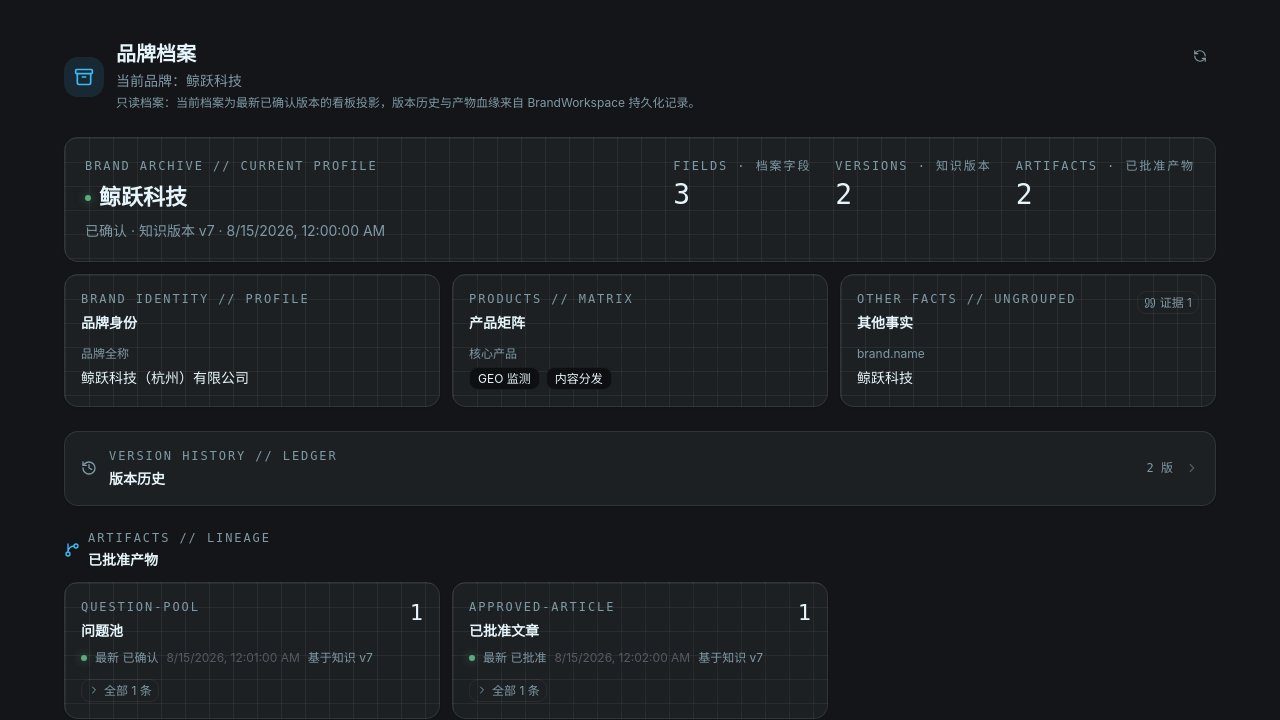
XiaojingBrandArchivePage › 版本历史默认收起，每行给 diff 摘要，展开只看 diff 详情
Check: the element named "当前档案" is shown, box 64,137 -> 1216,407
Check: the text "新增 2 · 移除 1" is not shown
Click the button "VERSION HISTORY // LEDGER 版本历史 2 版" at {"x": 223, "y": 456}, box 65,432 -> 1215,505
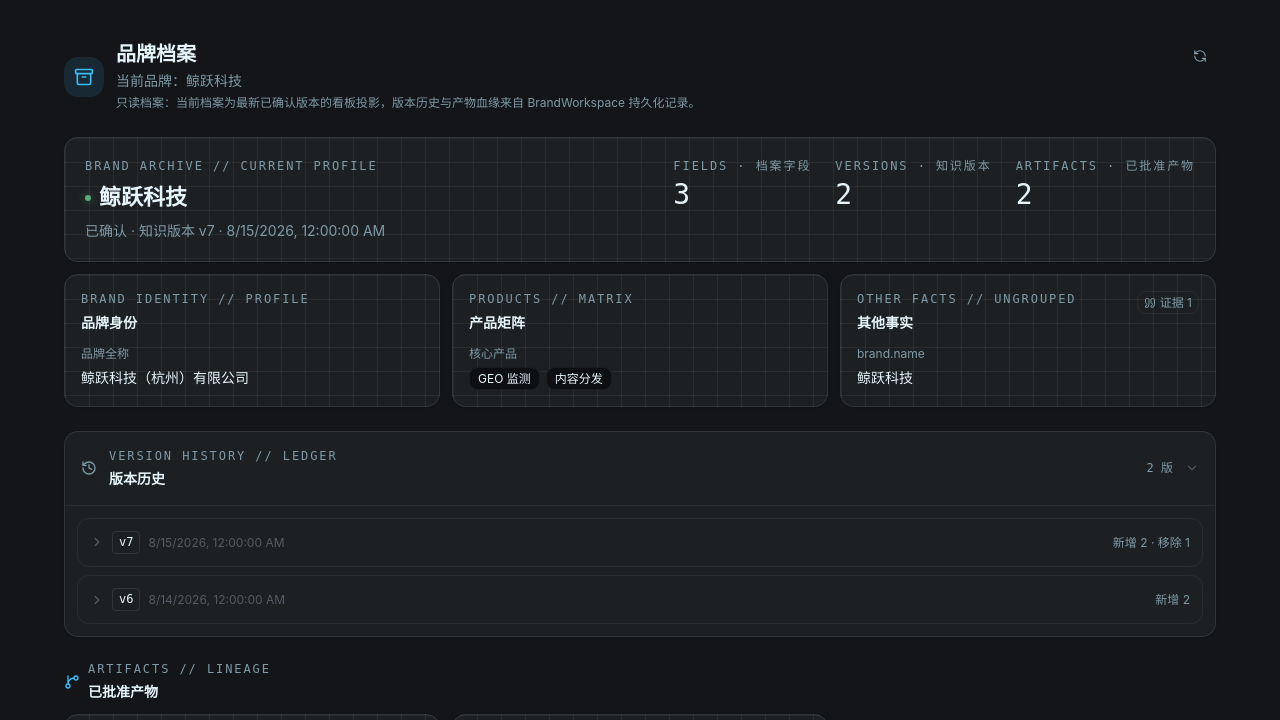
Check: the text "GEO 营销工具" is not shown
Check: the text "新增 2 · 移除 1" is shown, box 1113,534 -> 1190,551
Check: the text "新增 2" is shown, box 1155,591 -> 1190,608
Click the button "v7 8/15/2026, 12:00:00 AM 新增 2 · 移除 1" at {"x": 216, "y": 542}, box 78,518 -> 1202,566
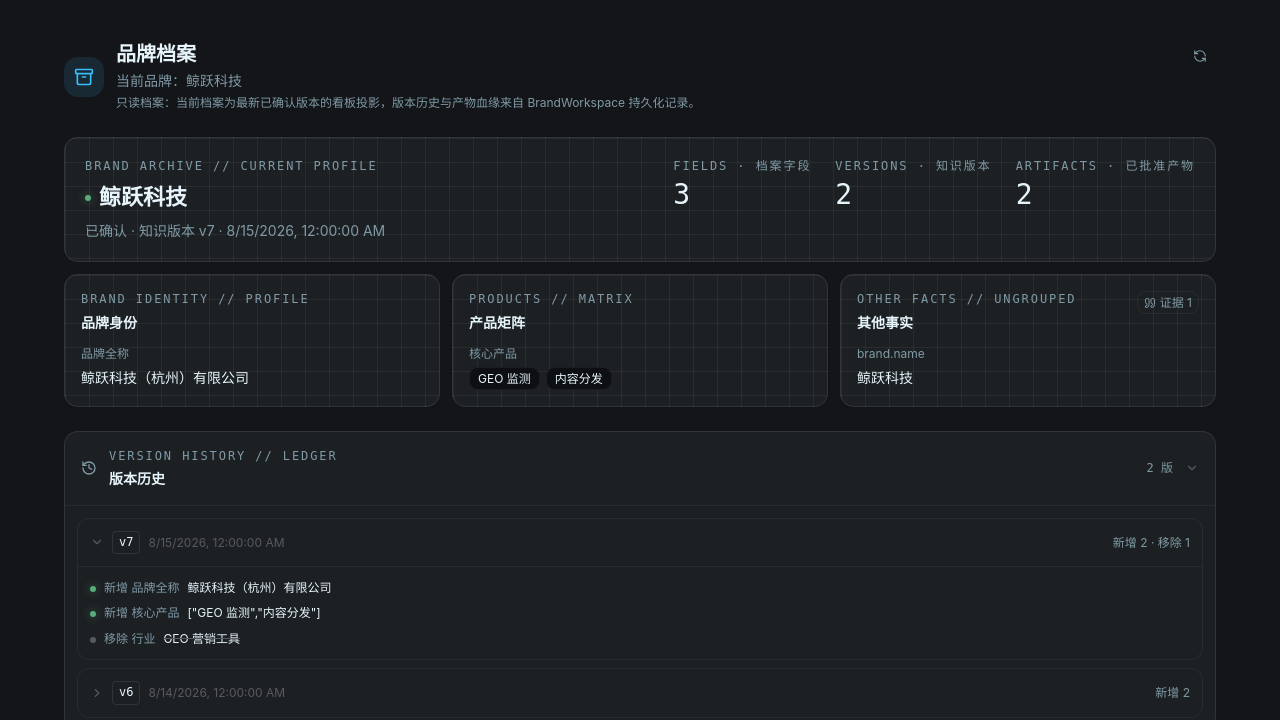
Check: the text "移除 行业" is shown, box 104,630 -> 155,647
Check: the text "GEO 营销工具" is shown, box 163,630 -> 240,647
Check: the text "新增 品牌全称" is shown, box 104,579 -> 179,596
